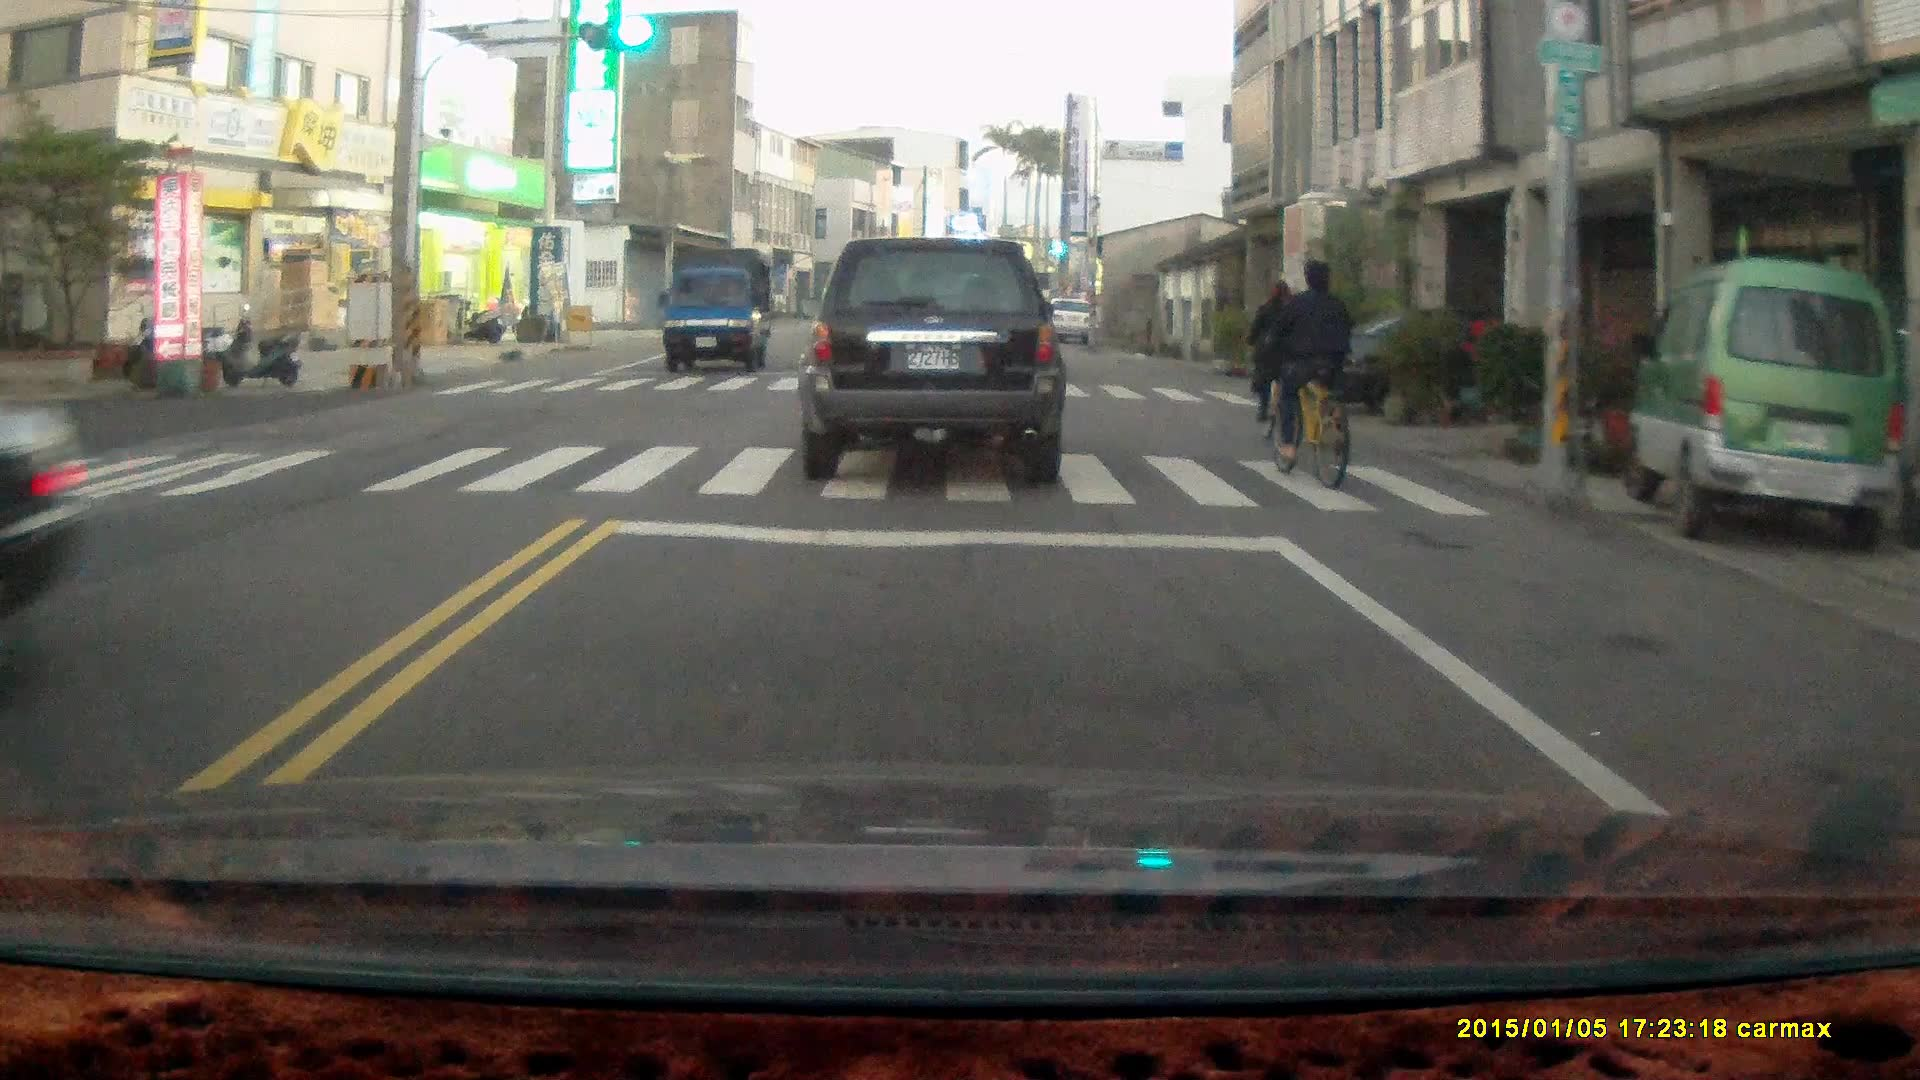rider: (1269, 254, 1362, 485), (1248, 273, 1310, 443)
vehicle: (1627, 255, 1902, 553), (798, 236, 1067, 482), (1335, 308, 1622, 425), (1, 375, 103, 629), (661, 250, 775, 375)
